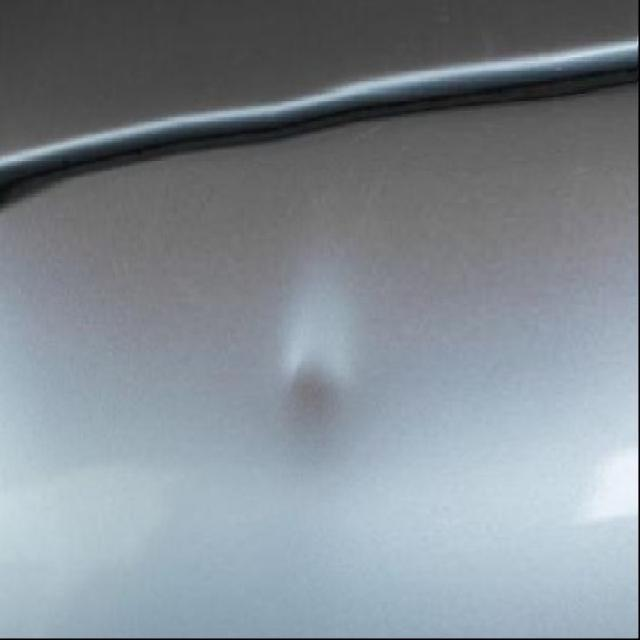dent: (283, 349, 369, 437)
